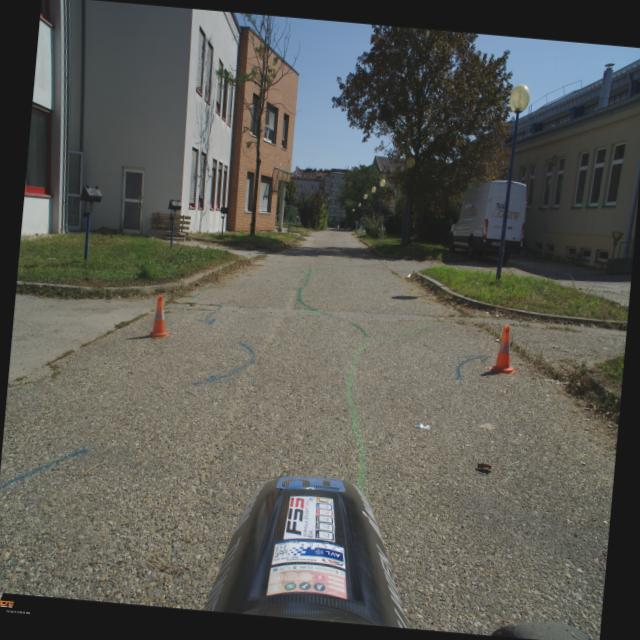orange_cone: (488, 324, 517, 374), (144, 293, 173, 340)
